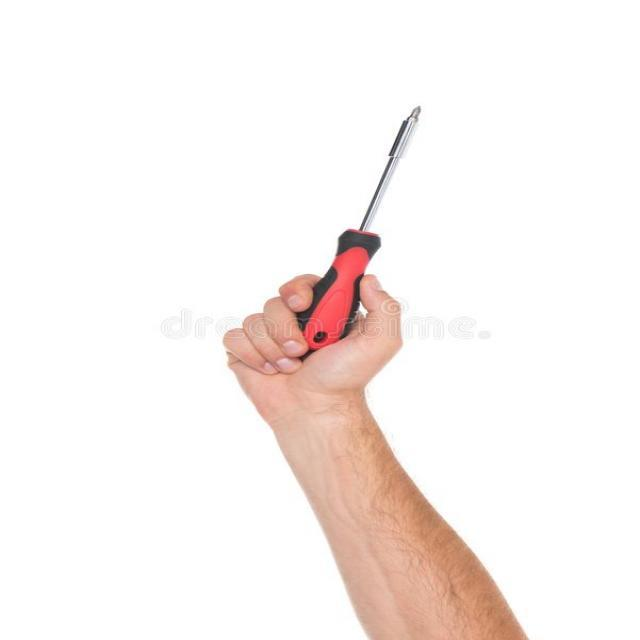screwdriver: (288, 99, 431, 360)
